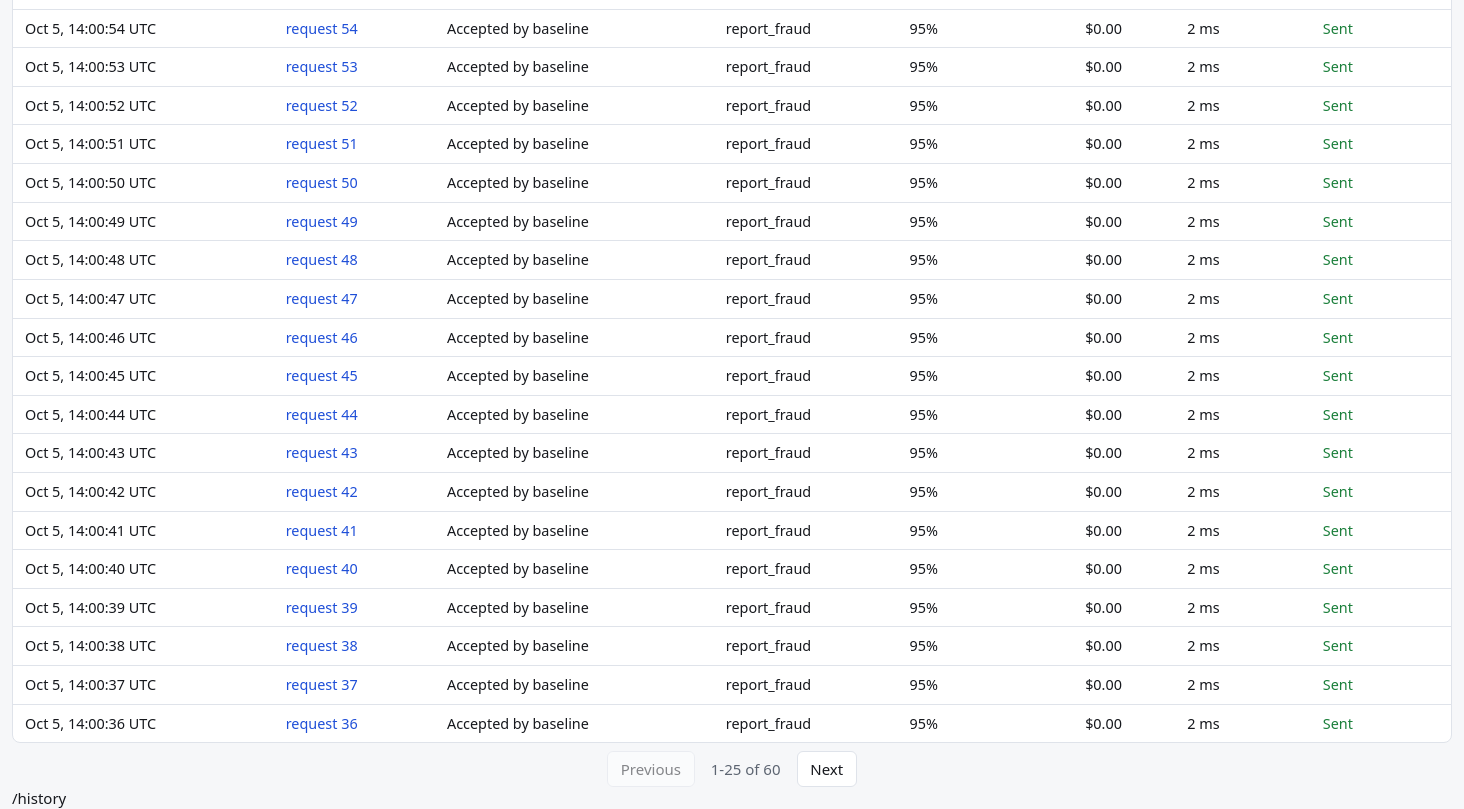
paging › pages through the list and keeps the page in the address
(page scrolled)
expect the text "1-25 of 60" is shown: met, box [711,758,780,780]
expect the button "Previous" is disabled: met, box [607,751,695,787]
Click the button "Next" at [827, 769], box [796,751,857,787]
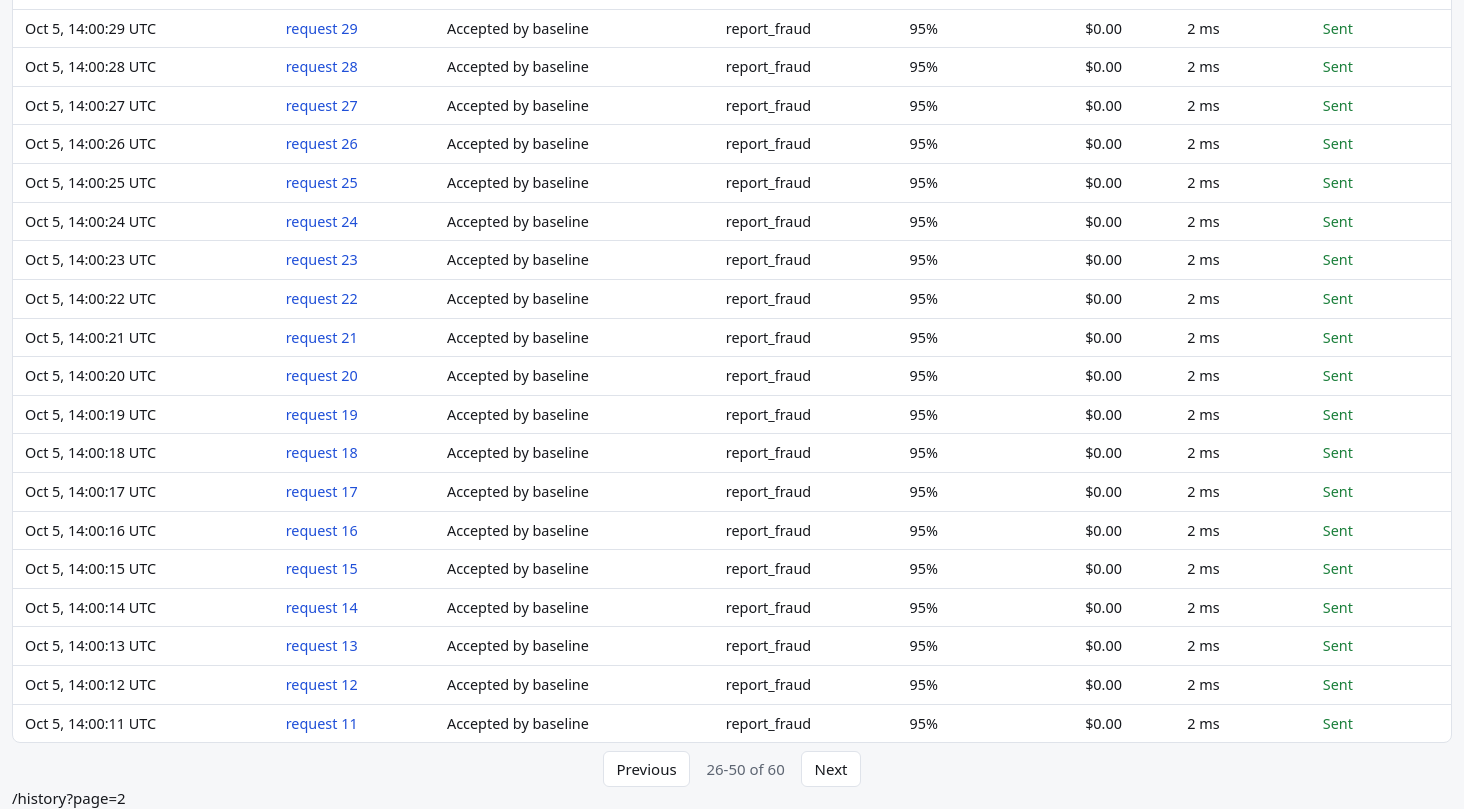
expect the text "26-50 of 60" is shown: met, box [706,758,785,780]
expect the text named "Address" reads "/history?page=2": met, box [12,788,126,808]
Click the button "Next" at [831, 769], box [801,751,861,787]
(page scrolled)
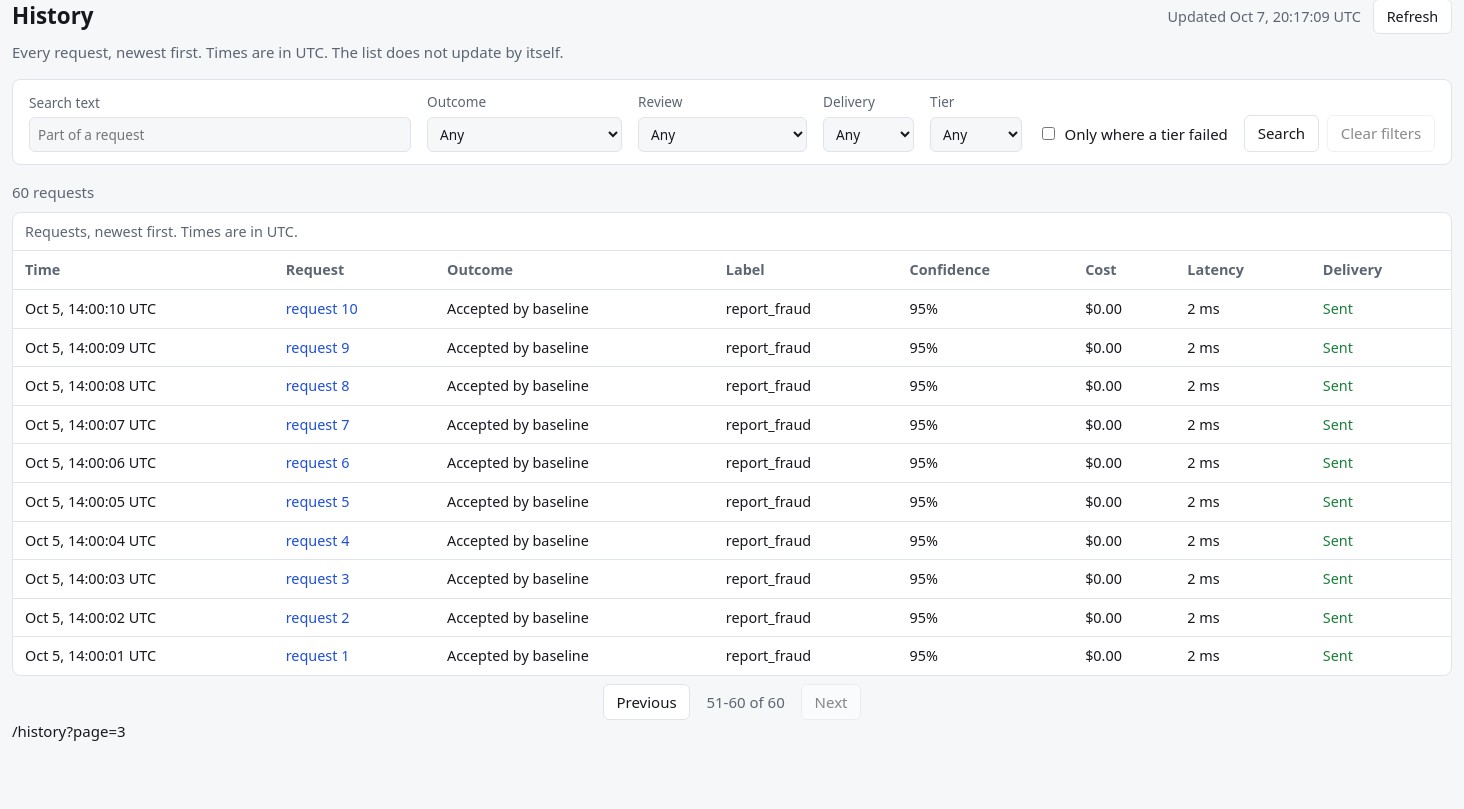
expect the text "51-60 of 60" is shown: met, box [706,691,785,713]
expect the button "Next" is disabled: met, box [801,684,861,720]
